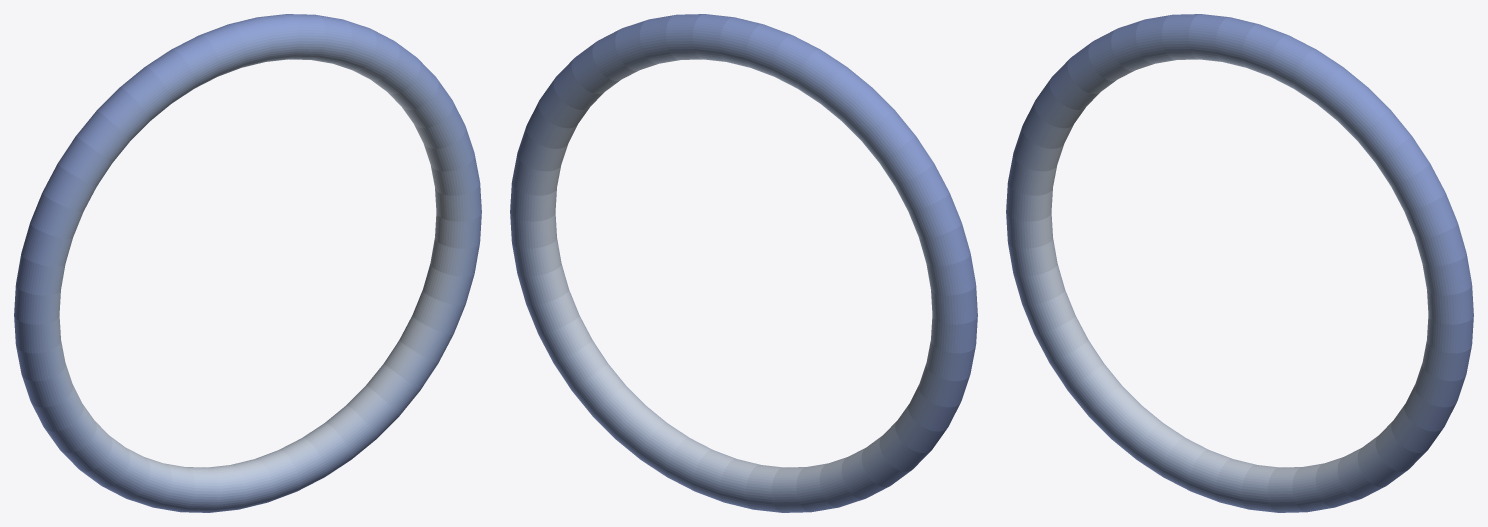
3 views of the same model, side by side, from view 1: azimuth 30°, elevation 25°; view 2: azimuth 150°, elevation 25°; view 3: azimuth 330°, elevation 25° (orthographic).
Parts seen in each view (by area): view 1: world; view 2: world; view 3: world.
Part boxes in pixels (x1,y1,x2,y2): world: (14, 14, 481, 512); world: (510, 14, 977, 512); world: (1006, 14, 1473, 512).
Size of the model in its own units: 32.8 by 32.74 by 2.79.
